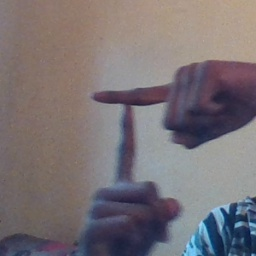T: (84, 66, 190, 211)
